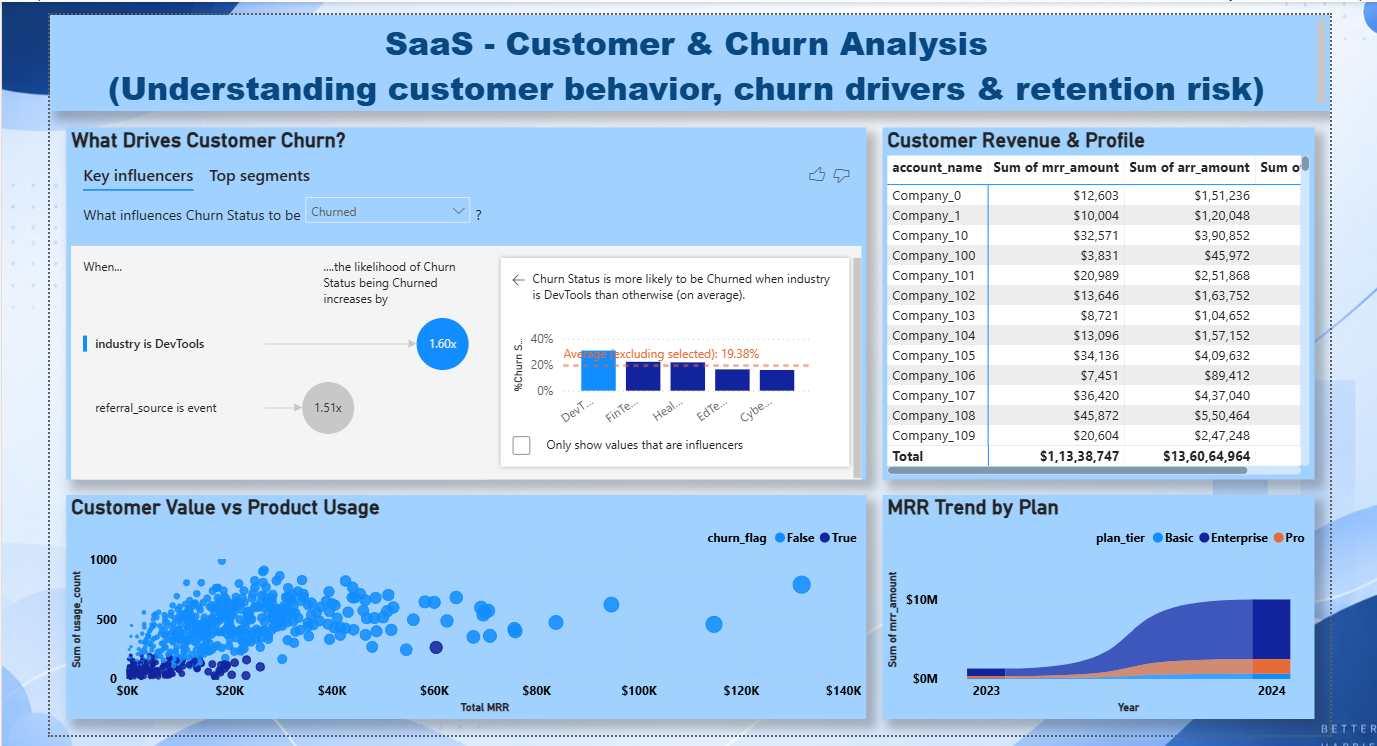

The page's visual inventory and layout, read from the dashboard file:
{"tool":"powerbi","page":{"name":"Customer & Churn Analysis","canvas":[1280,720],"ordinal":1},"visuals":[{"type":"textbox","box":[0,0,1280,96],"z":0},{"type":"keyDriversVisual","title":"What Drives Customer Churn?","fields":{"ExplainBy":["accounts_clean.plan_tier","accounts_clean.industry","accounts_clean.country","Sum(accounts_clean.seats)","accounts_clean.is_trial","accounts_clean.referral_source"],"Target":["accounts_clean.Churn Status"]},"box":[16,112,800,352],"z":1000},{"type":"scatterChart","title":"Customer Value vs Product Usage","fields":{"X":["subscriptions_clean.Total MRR"],"Y":["Sum(feature_usage_clean.usage_count)"],"Size":["subscriptions_clean.Total MRR"],"Series":["subscriptions_clean.churn_flag"],"Category":["accounts_clean.account_id"]},"box":[16,480,800,224],"z":2000},{"type":"pivotTable","title":"Customer Revenue & Profile","fields":{"Rows":["accounts_clean.account_name"],"Values":["Sum(subscriptions_clean.mrr_amount)","Sum(subscriptions_clean.arr_amount)","Sum(accounts_clean.seats)"]},"box":[832,112,432,352],"z":2001},{"type":"ribbonChart","title":"MRR Trend by Plan","fields":{"Category":["subscriptions_clean.start_date.Variation.Date Hierarchy.Year","subscriptions_clean.start_date.Variation.Date Hierarchy.Quarter","subscriptions_clean.start_date.Variation.Date Hierarchy.Month"],"Y":["Sum(subscriptions_clean.mrr_amount)"],"Series":["subscriptions_clean.plan_tier"]},"box":[832,480,432,224],"z":2002}]}

Visuals, with their boxes on the page's 1280x720 design canvas (x1, y1, x2, y2). These are canvas units, not pixel positions in the 1377x746 screenshot, which may show the page scaled, cropped or inside an application window:
textbox: 0, 0, 1280, 96
"What Drives Customer Churn?" keyDriversVisual: 16, 112, 816, 464
"Customer Value vs Product Usage" scatterChart: 16, 480, 816, 704
"Customer Revenue & Profile" pivotTable: 832, 112, 1264, 464
"MRR Trend by Plan" ribbonChart: 832, 480, 1264, 704
